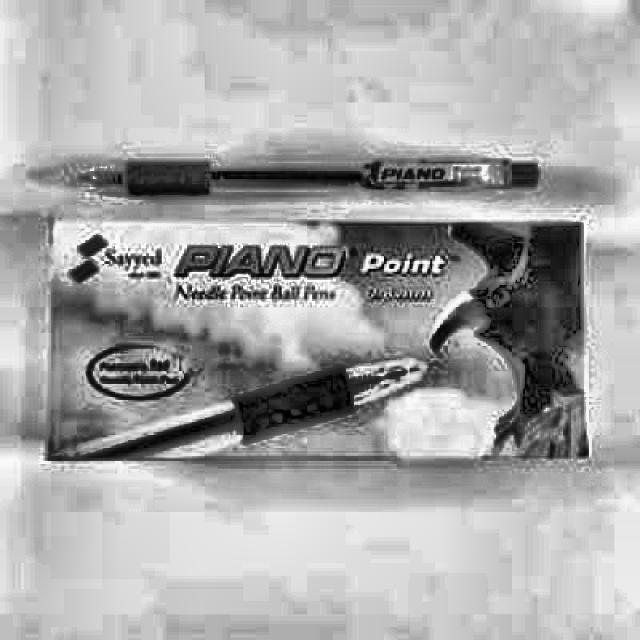Pen: (72, 147, 544, 197)
